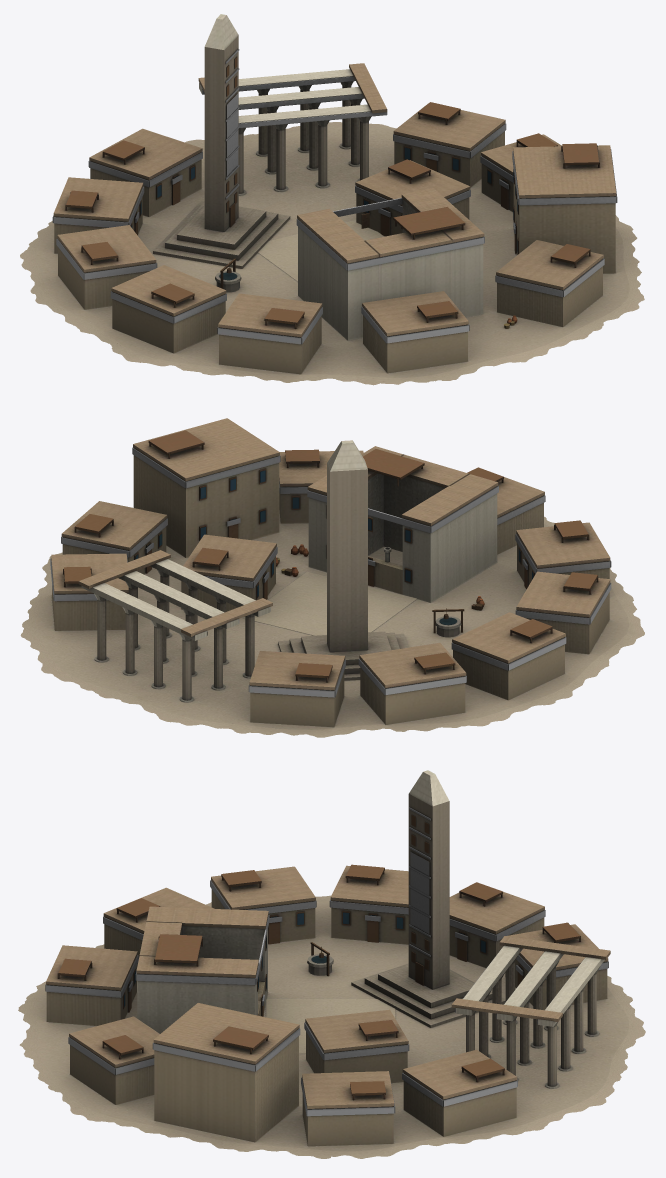
File: classical-town-medium-b-nile.glb
3 renders of one model, top to bottom at view 1: azimuth 30°, elevation 25°; view 2: azimuth 150°, elevation 25°; view 3: azimuth 270°, elevation 25°, orthographic.
Visible parts, largest first — view 1: LOD0; view 2: LOD0; view 3: LOD0.
Boxes of the visible parts, x1=… form: LOD0: x1=20, y1=14, x2=644, y2=385; LOD0: x1=20, y1=418, x2=644, y2=737; LOD0: x1=18, y1=770, x2=645, y2=1158.
Size of what is drawn, in the model's own units: 5.95 by 2.3 by 5.93.
Materials: 3 (3 with a texture image).
